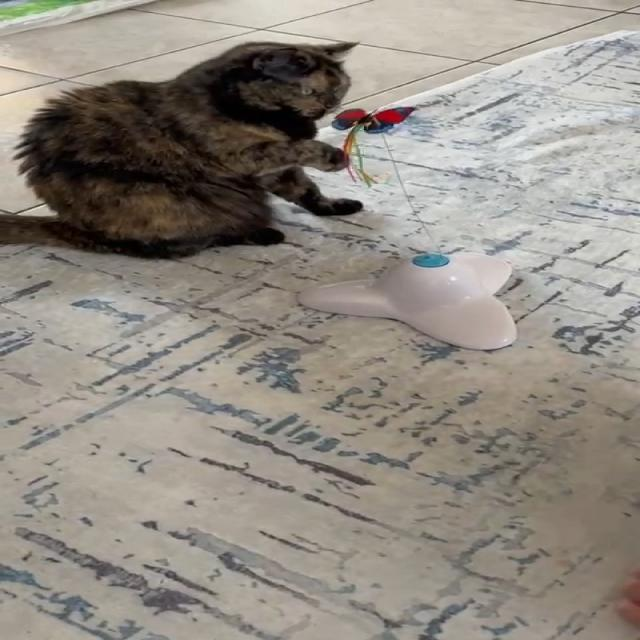authorized: (7, 39, 364, 260)
